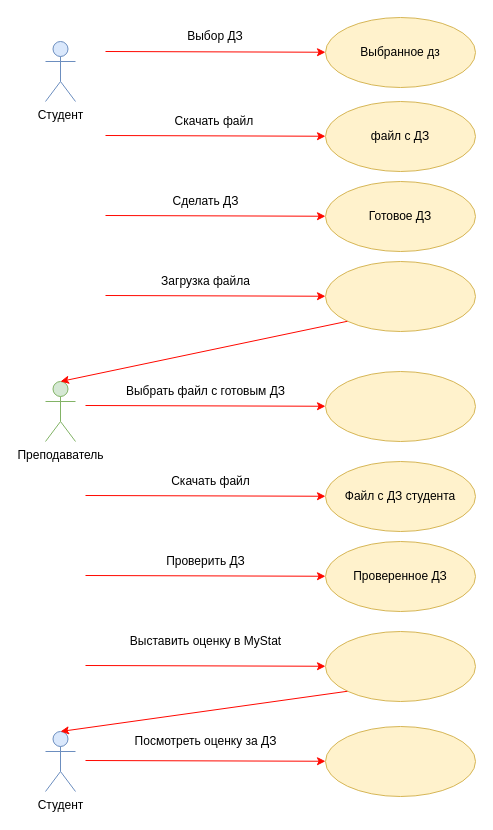
The diagram is 493 pixels wide and 830 high, and some of its shapes have lost their labels. The centre of each missing label's shape, as x and y in pixels:
Выбранный файл: [400,406]
Загруженный файл на Mystat: [400,296]
Оценка на MyStat: [400,666]
Реакция на оценку: [400,761]
